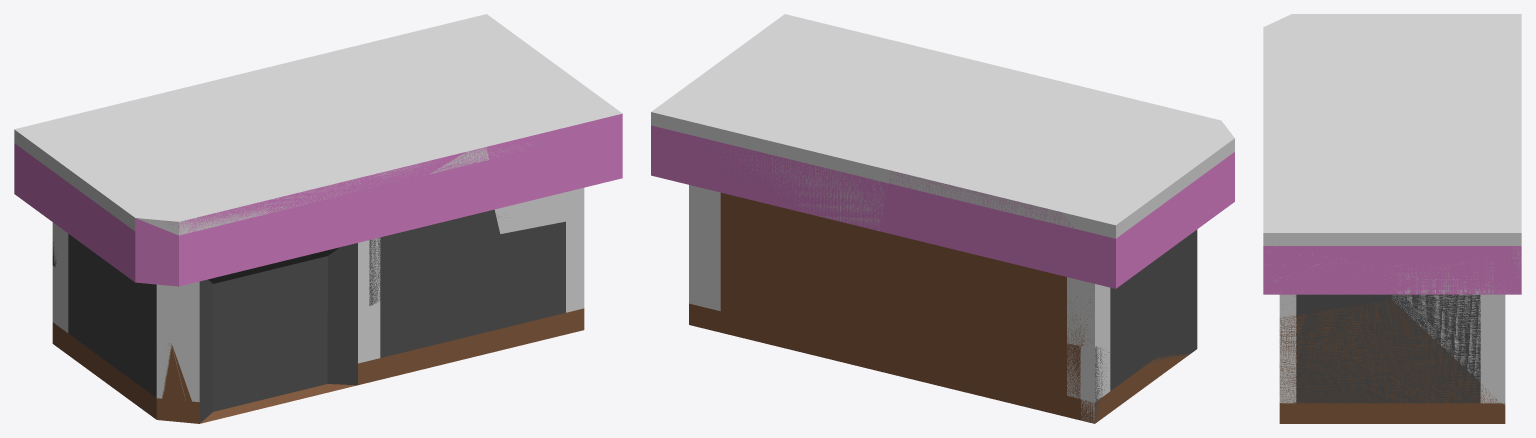
Rendered from convinience store (1).fbx.
The picture shows the model from 3 angles, left to right: view 1: azimuth 30°, elevation 25°; view 2: azimuth 150°, elevation 25°; view 3: azimuth 270°, elevation 25°; orthographic projection. The views are drawn at different scales.
Visible parts, largest first — view 1: Cube, Cube_cell.007, Cube_cell.014, Cube_cell.002, Cube_cell.004, Cube_cell.005, Cube_cell.006, Cube_cell.013, Cube_cell, Cube_cell.012, Cube_cell.003; view 2: Cube, Cube_cell.014, Cube_cell.007, Cube_cell.009, Cube_cell.004, Cube_cell.013, Cube_cell.003, Cube_cell.011, Cube_cell.010, Cube_cell.008; view 3: Cube, Cube_cell.014, Cube_cell.008, Cube_cell.007, Cube_cell.004, Cube_cell.013, Cube_cell.005.
Boxes of the visible parts, <box> form: Cube: <box>14,26,622,423</box>; Cube_cell.007: <box>197,89,465,229</box>; Cube_cell.014: <box>243,14,554,105</box>; Cube_cell.002: <box>119,164,273,340</box>; Cube_cell.004: <box>52,73,264,266</box>; Cube_cell.005: <box>486,113,622,233</box>; Cube_cell.006: <box>254,213,368,306</box>; Cube_cell.013: <box>14,116,182,190</box>; Cube_cell: <box>369,147,497,305</box>; Cube_cell.012: <box>172,300,277,419</box>; Cube_cell.003: <box>109,317,185,401</box>; Cube: <box>651,14,1234,423</box>; Cube_cell.014: <box>651,63,911,341</box>; Cube_cell.007: <box>873,51,1137,154</box>; Cube_cell.009: <box>867,296,1080,419</box>; Cube_cell.004: <box>877,144,1152,346</box>; Cube_cell.013: <box>1062,148,1197,230</box>; Cube_cell.003: <box>1146,273,1197,363</box>; Cube_cell.011: <box>1081,346,1109,423</box>; Cube_cell.010: <box>842,303,871,368</box>; Cube_cell.008: <box>689,306,788,349</box>; Cube: <box>1263,14,1521,423</box>; Cube_cell.014: <box>1366,120,1521,404</box>; Cube_cell.008: <box>1279,300,1505,423</box>; Cube_cell.007: <box>1263,63,1479,160</box>; Cube_cell.004: <box>1375,39,1521,119</box>; Cube_cell.013: <box>1363,14,1521,56</box>; Cube_cell.005: <box>1268,195,1392,304</box>.
Size of the model in its own units: 459 by 200 by 229.
